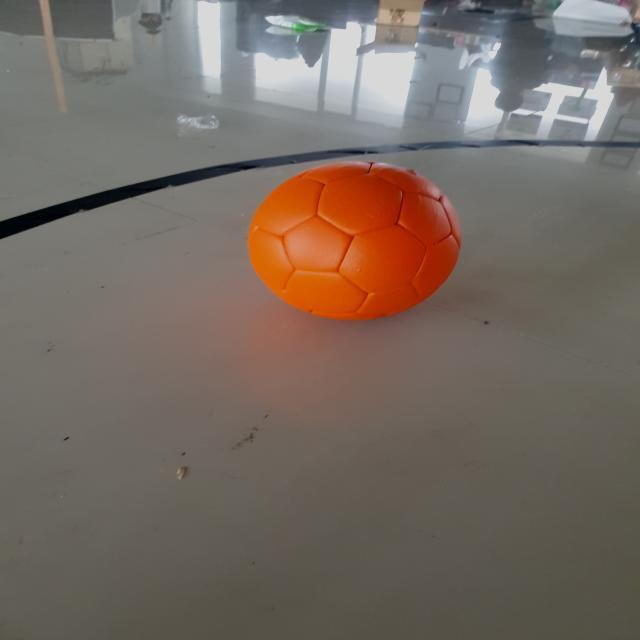bola: (220, 139, 479, 342)
